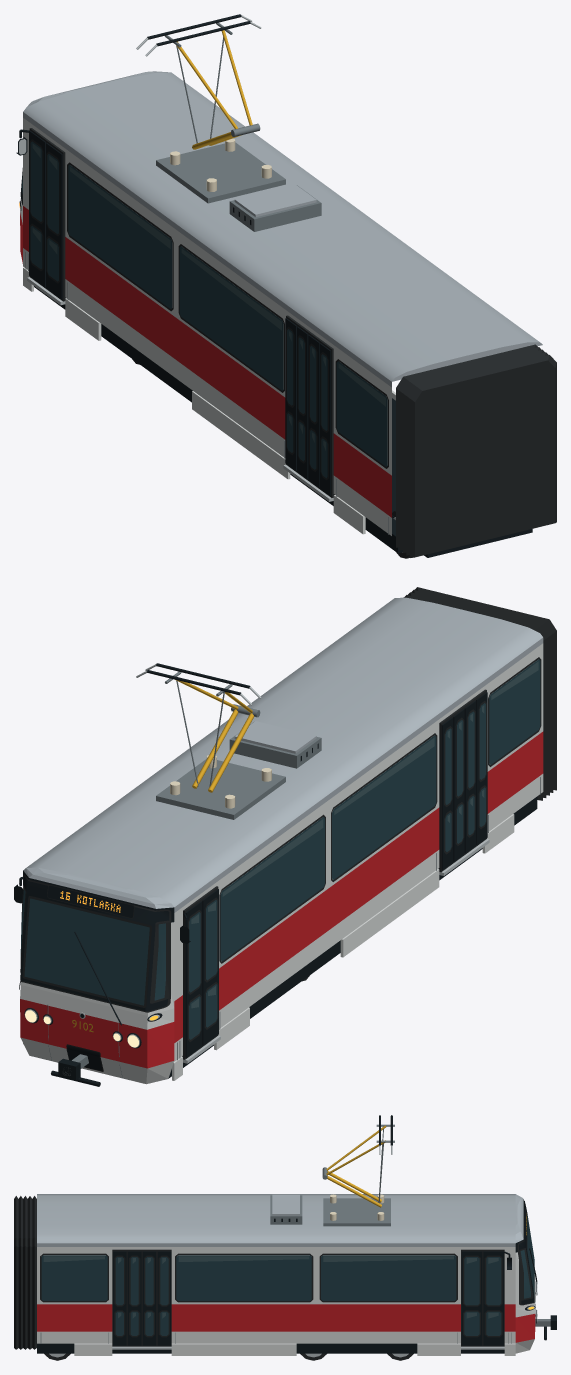
Rendered from kt8d5-a-viewer.glb.
The picture shows the model from 3 angles, top to bottom: view 1: azimuth 30°, elevation 25°; view 2: azimuth 150°, elevation 25°; view 3: azimuth 270°, elevation 25°; orthographic projection. The views are drawn at different scales.
Visible parts, largest first — view 1: kt8d5-a, kt8d5-a-door--1--4.300-0, kt8d5-a-door--1--4.300-1, kt8d5-a-door--1-3.150-3, kt8d5-a-door--1-3.150-1, kt8d5-a-door--1-3.150-0, kt8d5-a-door--1-3.150-2; view 2: kt8d5-a, kt8d5-a-door--1--4.300-0, kt8d5-a-door--1--4.300-1, kt8d5-a-door--1-3.150-0, kt8d5-a-door--1-3.150-2, kt8d5-a-door--1-3.150-1, kt8d5-a-door--1-3.150-3; view 3: kt8d5-a, kt8d5-a-door-1--4.300-1, kt8d5-a-door-1--4.300-0, kt8d5-a-door-1-3.150-0, kt8d5-a-door-1-3.150-1, kt8d5-a-door-1-3.150-2, kt8d5-a-door-1-3.150-3.
Boxes of the visible parts, x1,y1,x2,y2 form: kt8d5-a: (16, 14, 556, 558); kt8d5-a-door--1--4.300-0: (29, 130, 45, 287); kt8d5-a-door--1--4.300-1: (46, 143, 62, 299); kt8d5-a-door--1-3.150-3: (319, 343, 331, 495); kt8d5-a-door--1-3.150-1: (297, 326, 308, 479); kt8d5-a-door--1-3.150-0: (285, 318, 296, 470); kt8d5-a-door--1-3.150-2: (308, 335, 319, 487); kt8d5-a: (14, 587, 556, 1086); kt8d5-a-door--1--4.300-0: (185, 901, 202, 1057); kt8d5-a-door--1--4.300-1: (202, 889, 218, 1045); kt8d5-a-door--1-3.150-0: (441, 717, 453, 870); kt8d5-a-door--1-3.150-2: (464, 700, 476, 853); kt8d5-a-door--1-3.150-1: (453, 709, 464, 861); kt8d5-a-door--1-3.150-3: (476, 692, 487, 844); kt8d5-a: (14, 1115, 556, 1360); kt8d5-a-door-1--4.300-1: (461, 1251, 482, 1345); kt8d5-a-door-1--4.300-0: (483, 1251, 503, 1345); kt8d5-a-door-1-3.150-0: (157, 1251, 171, 1345); kt8d5-a-door-1-3.150-1: (142, 1251, 156, 1345); kt8d5-a-door-1-3.150-2: (127, 1251, 141, 1345); kt8d5-a-door-1-3.150-3: (113, 1251, 126, 1345).
Bounding box in the file's own units: 2.88 × 5.18 × 11.87.
